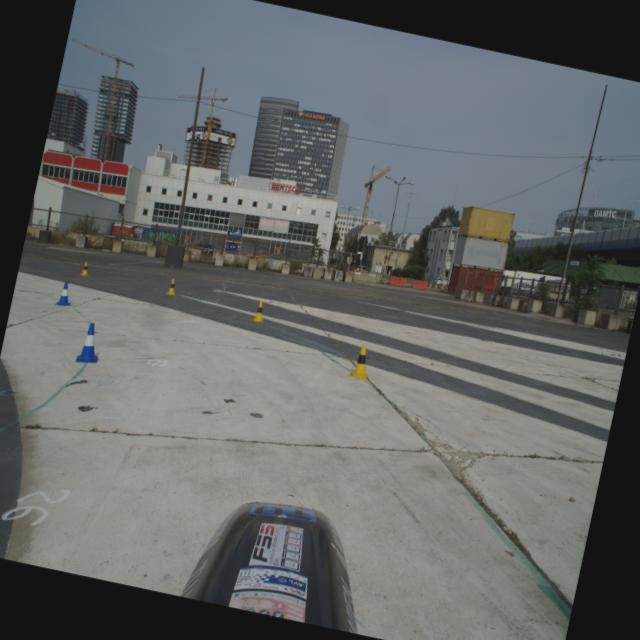blue_cone: (74, 321, 104, 366), (54, 280, 75, 308)
yellow_cone: (348, 342, 376, 381), (252, 300, 268, 322), (166, 278, 178, 296), (79, 260, 91, 276)
